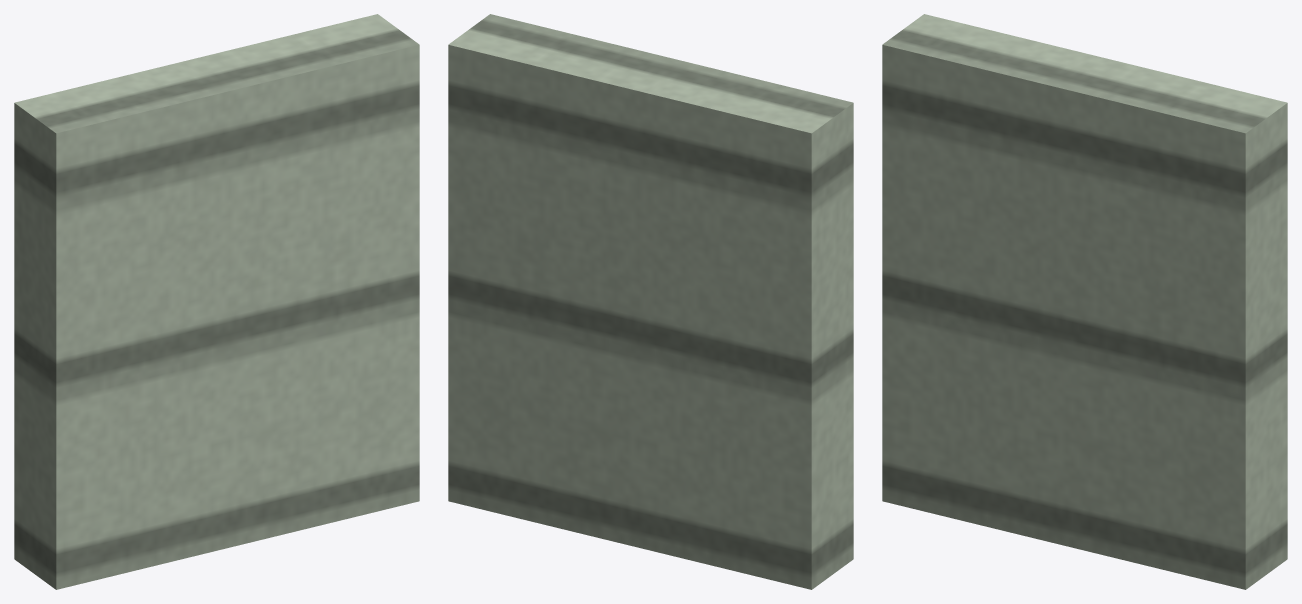
Rendered from religious_cultural_iconography.glb.
3 renders of one model, left to right at view 1: azimuth 30°, elevation 25°; view 2: azimuth 150°, elevation 25°; view 3: azimuth 330°, elevation 25°, orthographic.
Visible parts, largest first — view 1: religious_cultural_iconography-col; view 2: religious_cultural_iconography-col; view 3: religious_cultural_iconography-col.
Boxes of the visible parts, bbox=[...] form: religious_cultural_iconography-col: bbox=[14, 14, 419, 589]; religious_cultural_iconography-col: bbox=[448, 14, 853, 589]; religious_cultural_iconography-col: bbox=[882, 14, 1287, 589].
Size of the model in its own units: 0.25 by 0.3 by 0.05.
1 material, 1 textured.
